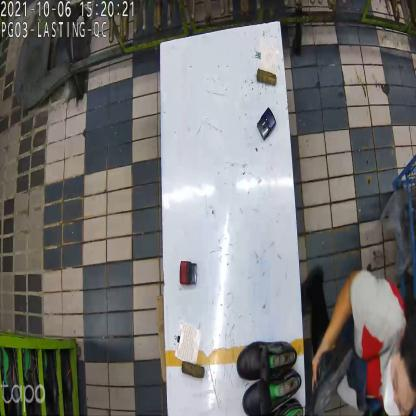shoes: (235, 338, 303, 415), (313, 346, 353, 416)
stamp: (257, 105, 276, 142), (179, 258, 197, 288)
